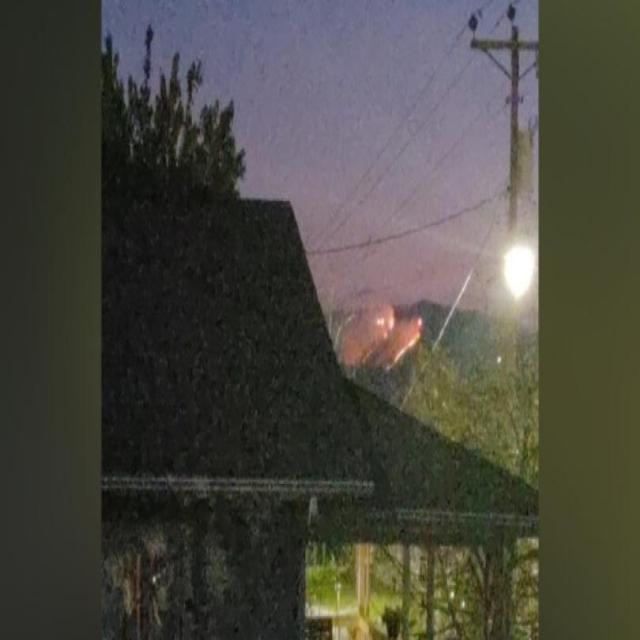Fire: (386, 328, 422, 371), (373, 310, 396, 338)
Smoke: (331, 294, 422, 378)
